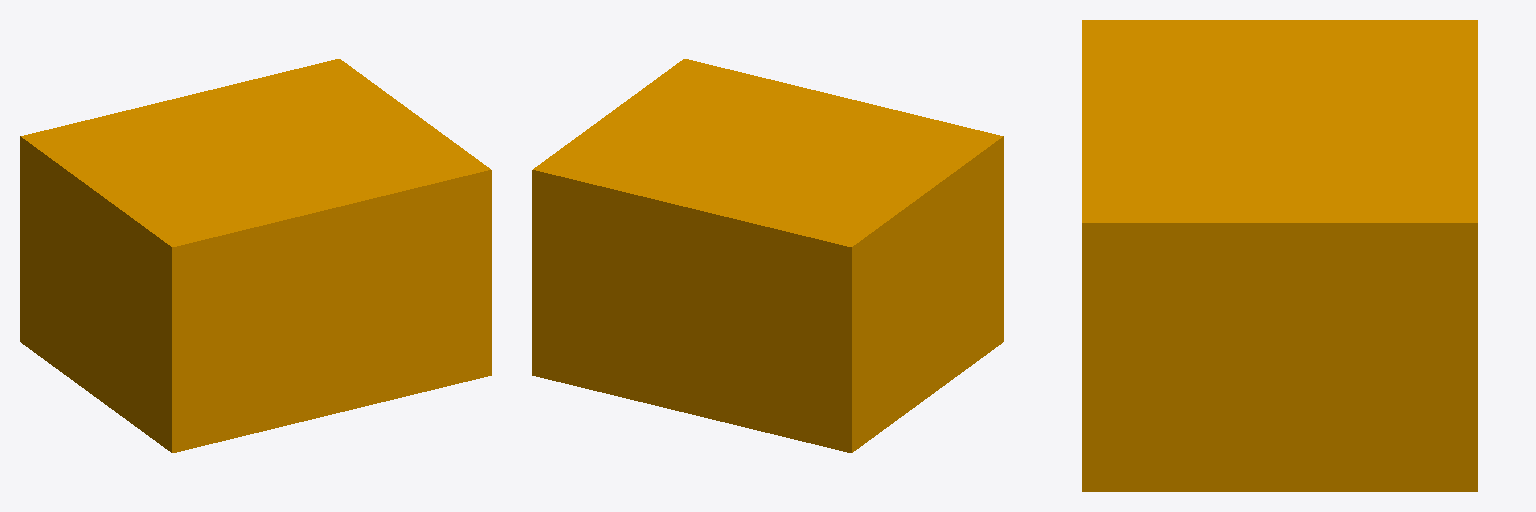
URDF robot description (object):
<?xml version="1.0"?>
<!-- Auto-generated by tools/gen_primitive_objects.py. kind=box dims=(0.085705, 0.070639, 0.052857) -->
<robot name="object">
  <link name="object">
    <visual>
      <origin xyz="0 0 0"/>
      <geometry>
        <box size="0.085705 0.070639 0.052857"/>
      </geometry>
    </visual>
    <collision>
      <origin xyz="0 0 0"/>
      <geometry>
        <box size="0.085705 0.070639 0.052857"/>
      </geometry>
    </collision>
    <inertial>
      <mass value="0.064000"/>
      <inertia ixx="0.00004151" ixy="0.0" ixz="0.0" iyy="0.00005408" iyz="0.0" izz="0.00006579"/>
    </inertial>
  </link>
</robot>

--- Render facts (derived) ---
3 views of the same robot in one strip: view 1: azimuth 30°, elevation 25°; view 2: azimuth 150°, elevation 25°; view 3: azimuth 270°, elevation 25° (orthographic).
Robot: object — 1 links, 0 joints (none); root link object; default pose: every joint at zero.
Links seen in each view (by area): view 1: object; view 2: object; view 3: object.
Boxes of the visible links, box(x1,y1,x2,y2) form: object: box(20, 59, 491, 452); object: box(532, 59, 1003, 452); object: box(1082, 20, 1477, 491).
Bounding box of the posed robot: 0.0857 × 0.0706 × 0.0529 m (x, y, z).
Geometry: primitives only (box / cylinder / sphere), no mesh files.
